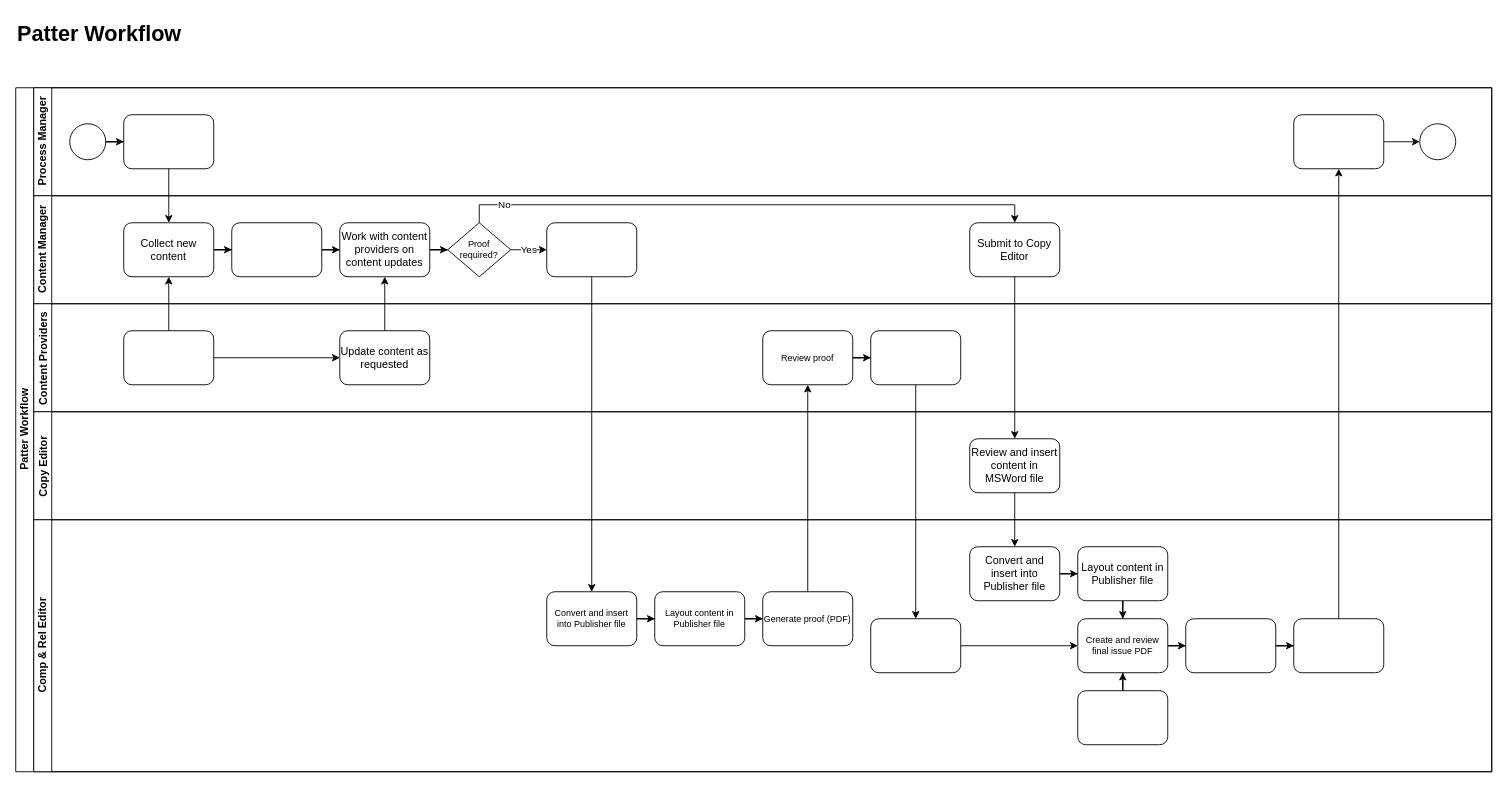
The diagram is 1508 pixels wide and 788 high, and some of its shapes have lost their labels. The centre of each missing label's shape, as x and y in pixels:
"Begin the monthly issue process" belongs at (x=168, y=141).
"End the monthly issue process" belongs at (x=1338, y=141).
"Make changes as needed" belongs at (x=915, y=645).
"Provide new content" belongs at (x=168, y=357).
"Publish PDF" belongs at (x=1230, y=645).
"Request proof" belongs at (x=591, y=249).
"Respond with final comments" belongs at (x=915, y=357).
"Review content" belongs at (x=276, y=249).
"Select cover image for issue" belongs at (x=1122, y=717).
"Send links to Membership and Web Manager" belongs at (x=1338, y=645).
